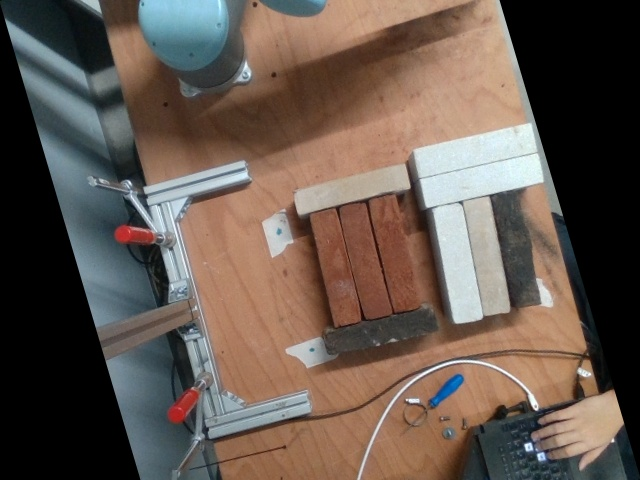brick-side: (420, 152, 545, 208), (413, 123, 537, 179), (433, 201, 483, 324), (310, 208, 362, 325), (369, 195, 421, 312), (341, 201, 392, 318), (461, 196, 510, 316), (293, 164, 409, 214), (490, 190, 539, 307), (323, 305, 439, 354)
